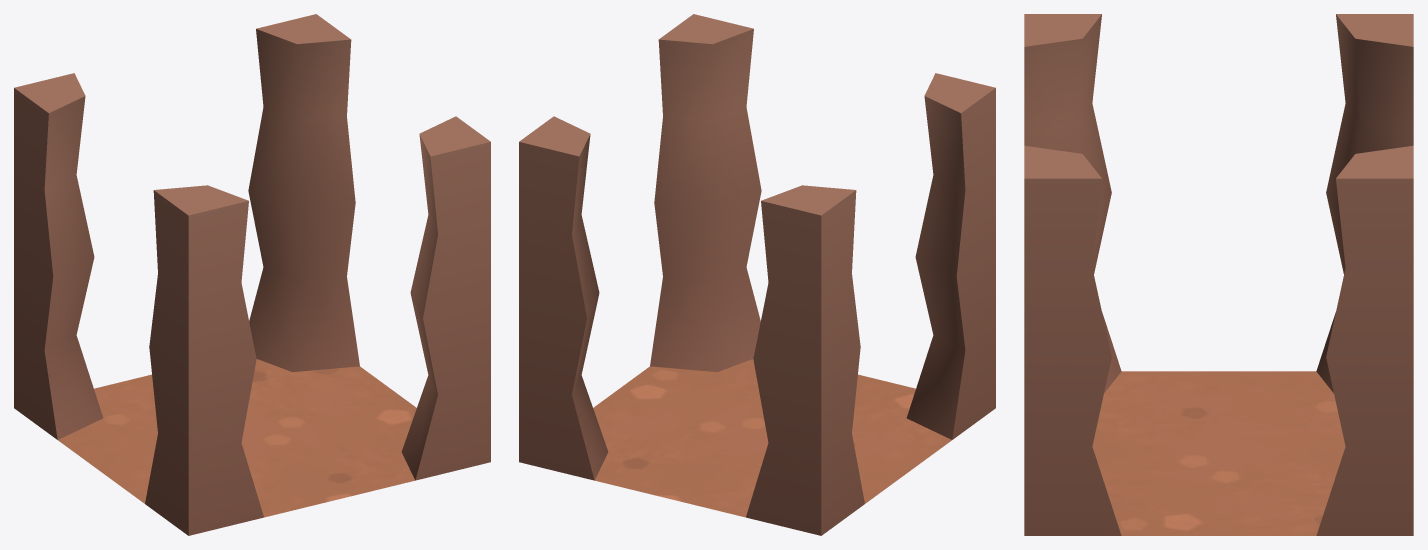
The model's file is corridor-intersection.obj.
3 renders of one model, left to right at view 1: azimuth 30°, elevation 25°; view 2: azimuth 150°, elevation 25°; view 3: azimuth 270°, elevation 25°, orthographic. The views are drawn at different scales.
Parts seen in each view (by area): view 1: corridor-intersection; view 2: corridor-intersection; view 3: corridor-intersection.
Part boxes in pixels (x1,y1,x2,y2): corridor-intersection: (14,14,490,535); corridor-intersection: (519,14,995,535); corridor-intersection: (1024,14,1413,535).
Size of the model in its own units: 4 by 4.05 by 4.
1 material, 1 textured.
